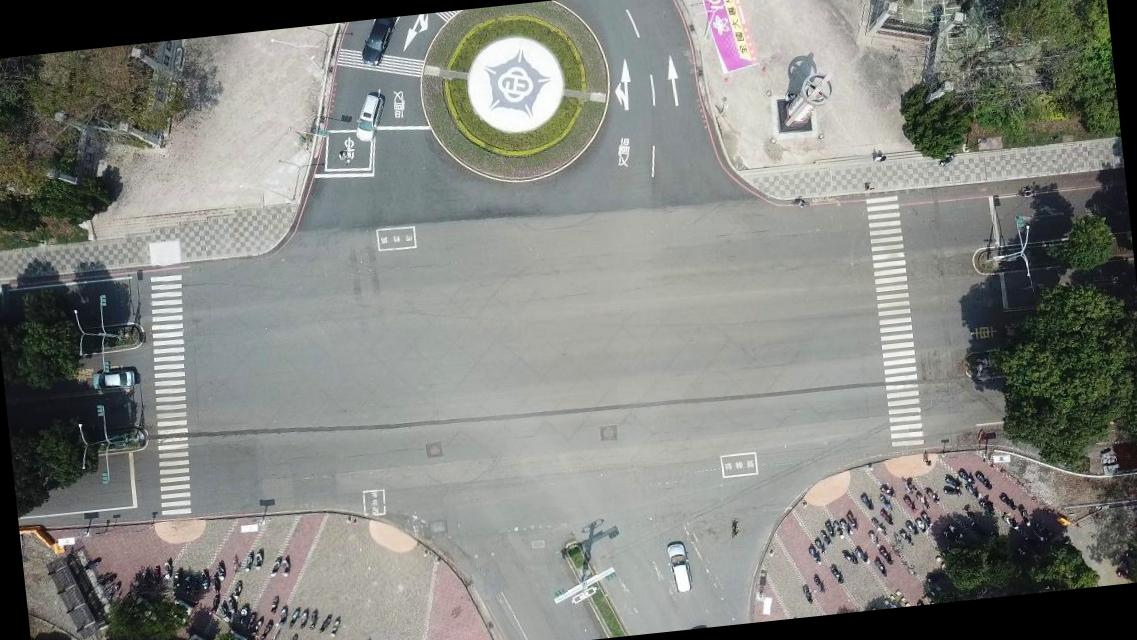vehicle: (358, 17, 404, 68), (350, 91, 390, 144), (665, 540, 695, 594), (88, 366, 138, 392)
